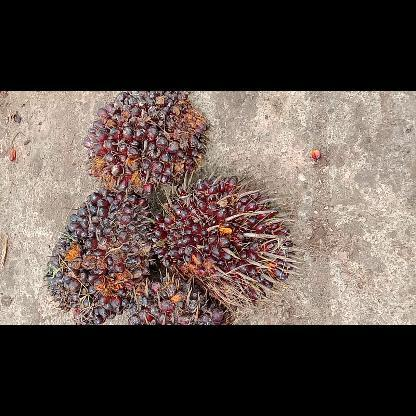Kurang masak: (148, 170, 298, 314), (40, 188, 162, 324), (80, 90, 210, 194), (124, 270, 232, 324)
